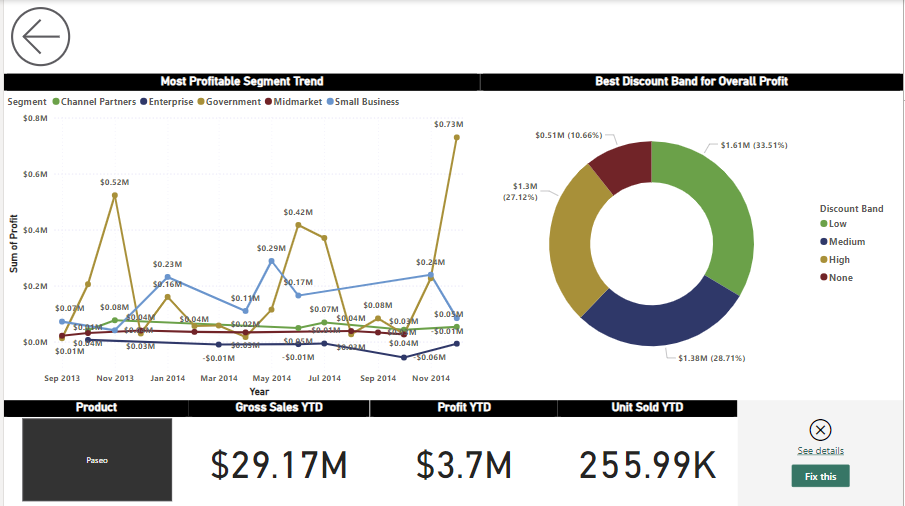

Layout of this report page (visuals, bound fields, positions):
{"tool":"powerbi","page":{"name":"Drill Down","canvas":[1280,720],"ordinal":1},"visuals":[{"type":"slicer","title":"Product","fields":{"Values":["Products.Product "]},"box":[0,569.5,263.5,150.9],"z":0},{"type":"actionButton","box":[0,0,131.7,104.3],"z":1000},{"type":"card","title":"Gross Sales YTD","fields":{"Values":["financials.GrossSales_YTD"]},"box":[263.5,569.5,256.6,150.9],"z":2000},{"type":"card","title":"Profit YTD","fields":{"Values":["financials.Profit_YTD"]},"box":[521.4,569.5,267.6,150.9],"z":3000},{"type":"card","title":"Unit Sold YTD","fields":{"Values":["financials.UnitsSold_YTD"]},"box":[789,569.5,255.2,150.9],"z":4000},{"type":"card","title":"COGS YTD","fields":{"Values":["financials.COGS_YTD"]},"box":[1044.3,569.5,236,150.9],"z":5000},{"type":"lineChart","title":"Most Profitable Segment Trend","fields":{"Y":["Sum(financials.Profit)"],"Category":["financials.Date.Variation.Date Hierarchy.Year","financials.Date.Variation.Date Hierarchy.Month"],"Series":["Segments.Segment"]},"box":[0,104.3,677.9,465.2],"z":6000},{"type":"donutChart","title":"Best Discount Band for Overall Profit ","fields":{"Y":["Sum(financials.Profit)"],"Category":["Discount Band.Discount Band"]},"box":[677.9,104.3,602.4,465.2],"z":7000}]}

Visuals, with their boxes in screenshot pixels (x1, y1, x2, y2), scaled from the page's 1280x720 canvas onto the 905x506 screenshot:
"Product" slicer: 0 400 186 505
actionButton: 0 0 93 73
"Gross Sales YTD" card: 186 400 368 505
"Profit YTD" card: 369 400 558 505
"Unit Sold YTD" card: 558 400 738 505
"COGS YTD" card: 738 400 904 505
"Most Profitable Segment Trend" lineChart: 0 73 479 400
"Best Discount Band for Overall Profit " donutChart: 479 73 904 400
